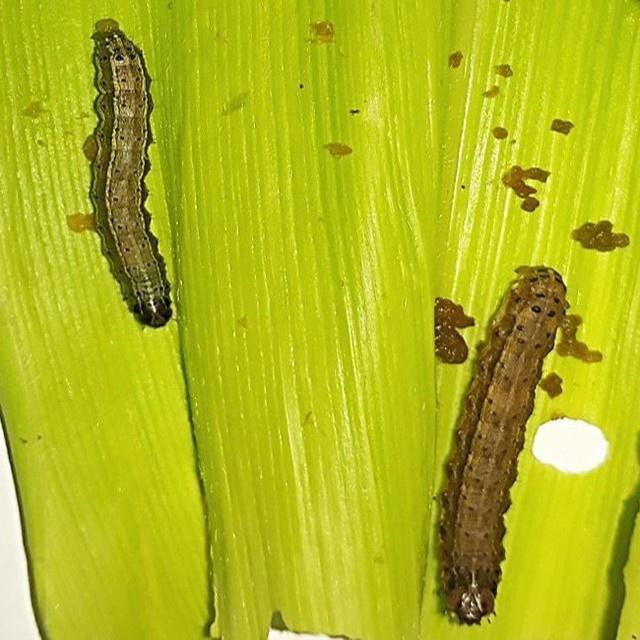yellow-stem-borer-larva: (411, 242, 577, 636), (67, 12, 223, 344)
